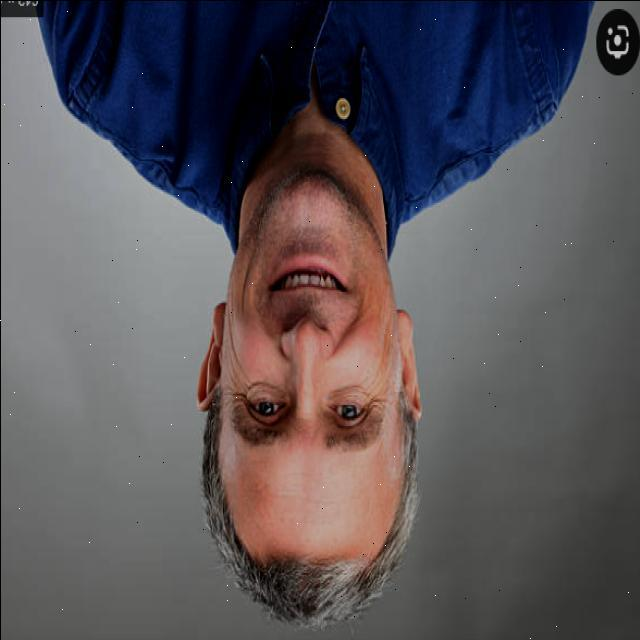face_no_mask: (196, 165, 419, 543)
